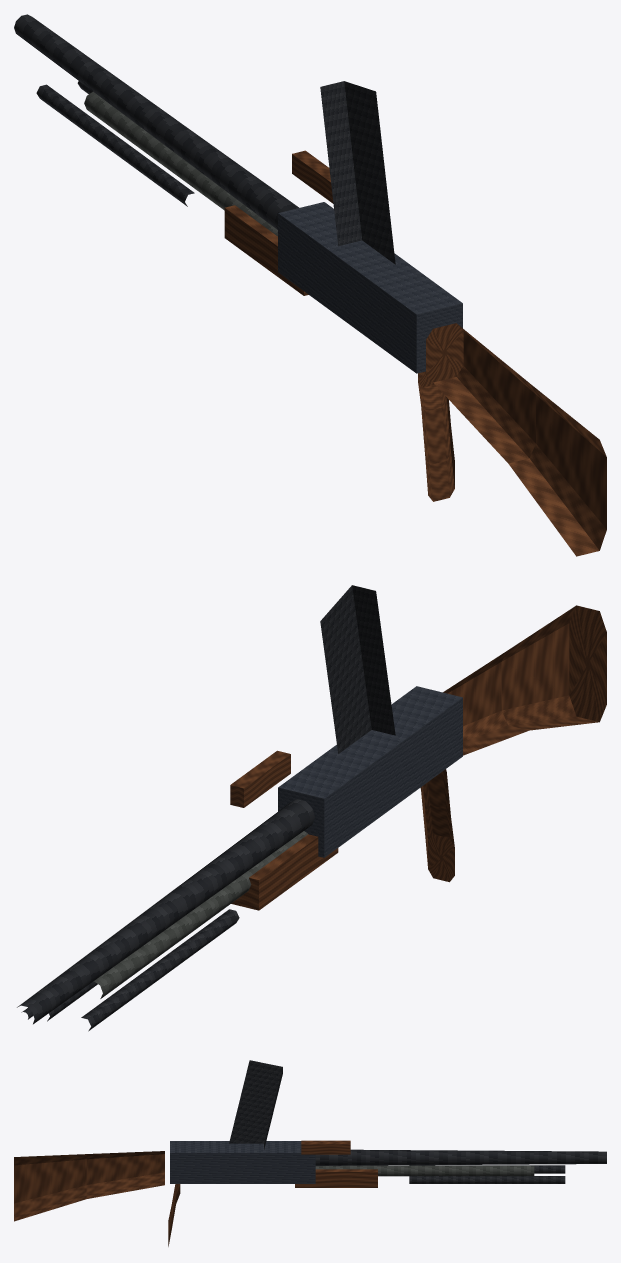
Rendered from bren_mk1.glb.
The picture shows the model from 3 angles, top to bottom: view 1: azimuth 30°, elevation 25°; view 2: azimuth 150°, elevation 25°; view 3: azimuth 270°, elevation 25°; orthographic projection. The views are drawn at different scales.
Parts seen in each view (by area): view 1: WeaponMesh; view 2: WeaponMesh; view 3: WeaponMesh.
Part boxes in pixels (x1,y1,x2,y2): WeaponMesh: (14,14,606,556); WeaponMesh: (17,585,606,1031); WeaponMesh: (14,1060,606,1246).
Bounding box in the file's own units: 0.076 × 0.3892 × 1.14.
Materials: 4 (4 with a texture image).
